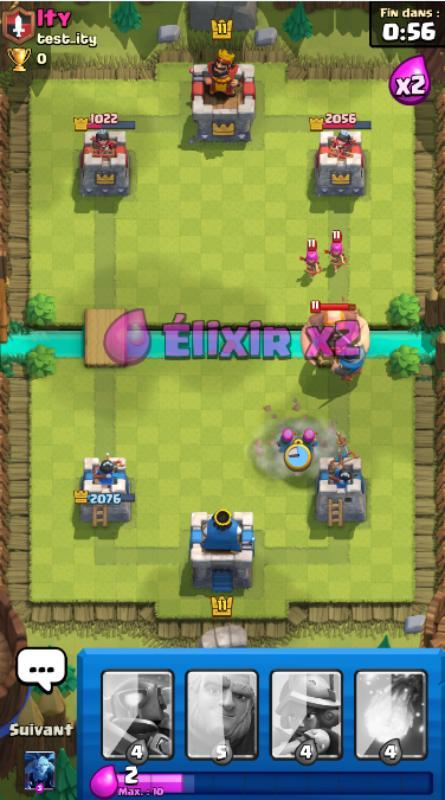archere: (324, 229, 350, 274), (300, 240, 323, 278), (299, 429, 320, 457), (278, 428, 298, 454)
chevalier: (328, 323, 366, 383)
geant: (301, 299, 370, 372)
